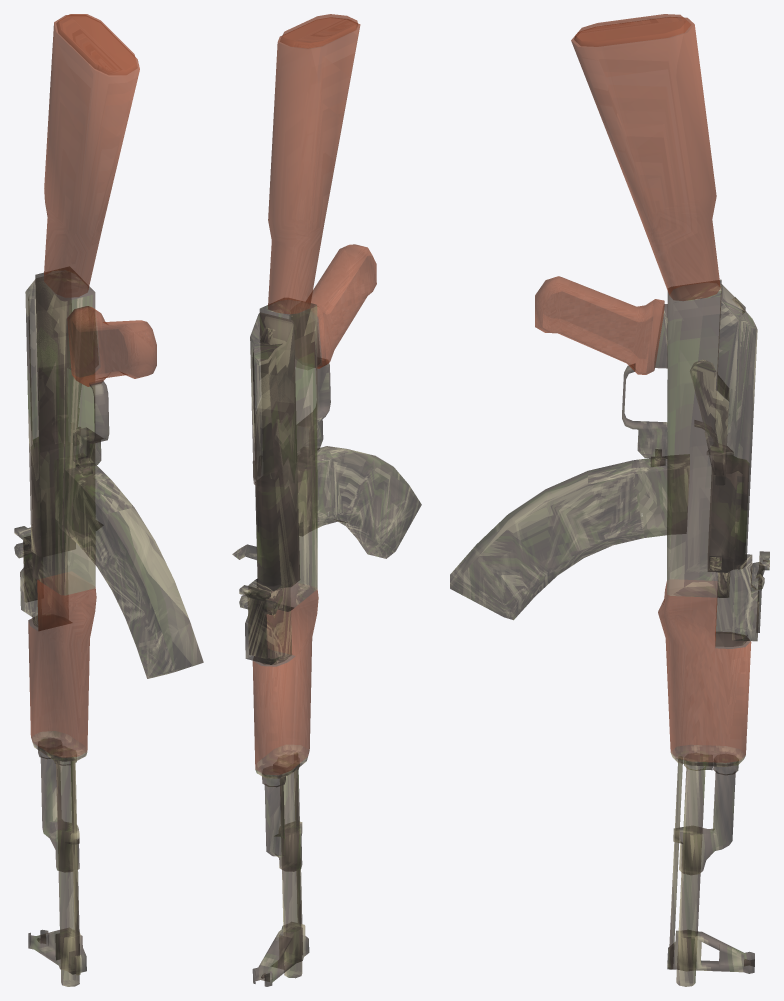
3 views of the same model, side by side, from view 1: azimuth 30°, elevation 25°; view 2: azimuth 150°, elevation 25°; view 3: azimuth 270°, elevation 25° (orthographic). The views are drawn at different scales.
Visible parts, largest first — view 1: Musket; view 2: Musket; view 3: Musket.
Boxes of the visible parts, x1=… form: Musket: x1=14, y1=14, x2=203, y2=986; Musket: x1=232, y1=14, x2=421, y2=986; Musket: x1=450, y1=14, x2=769, y2=986.
Size of the model in its own units: 0.1134 by 0.4664 by 1.55.
